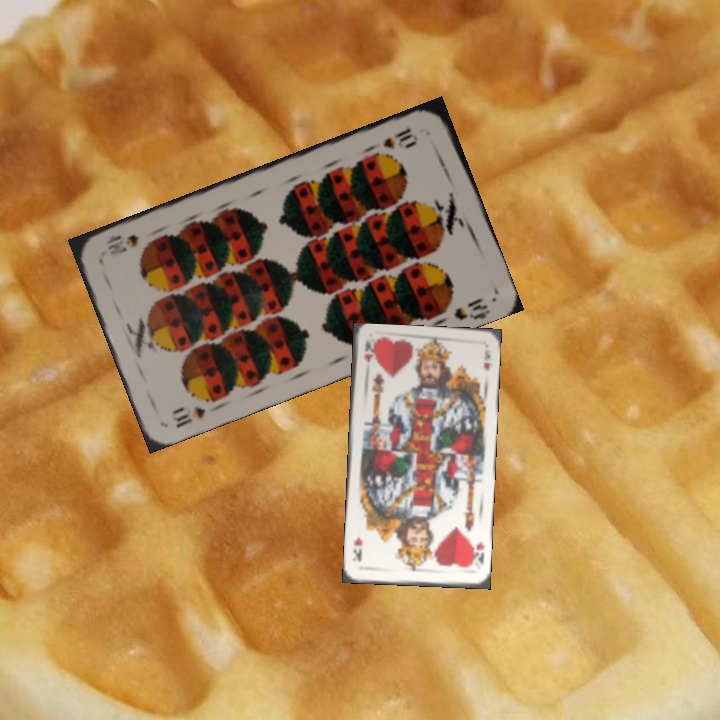HK: (467, 537, 487, 568), (360, 338, 375, 365)
S10: (168, 401, 208, 431), (379, 124, 421, 152)
